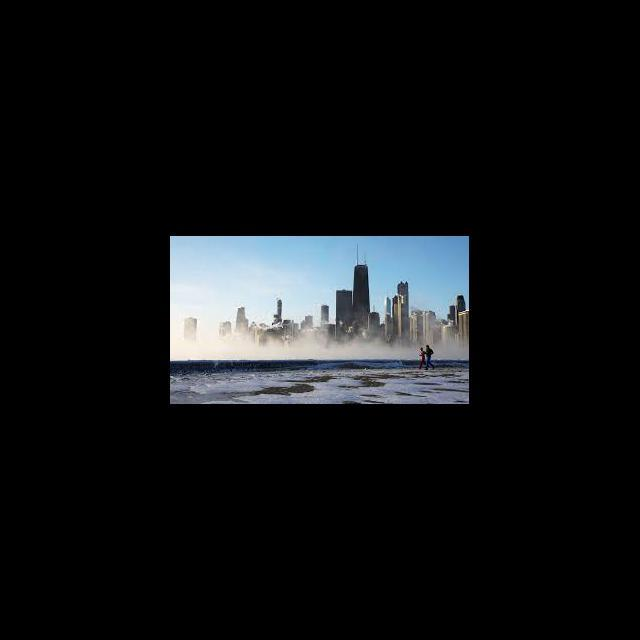Smoke: (172, 336, 469, 359)
